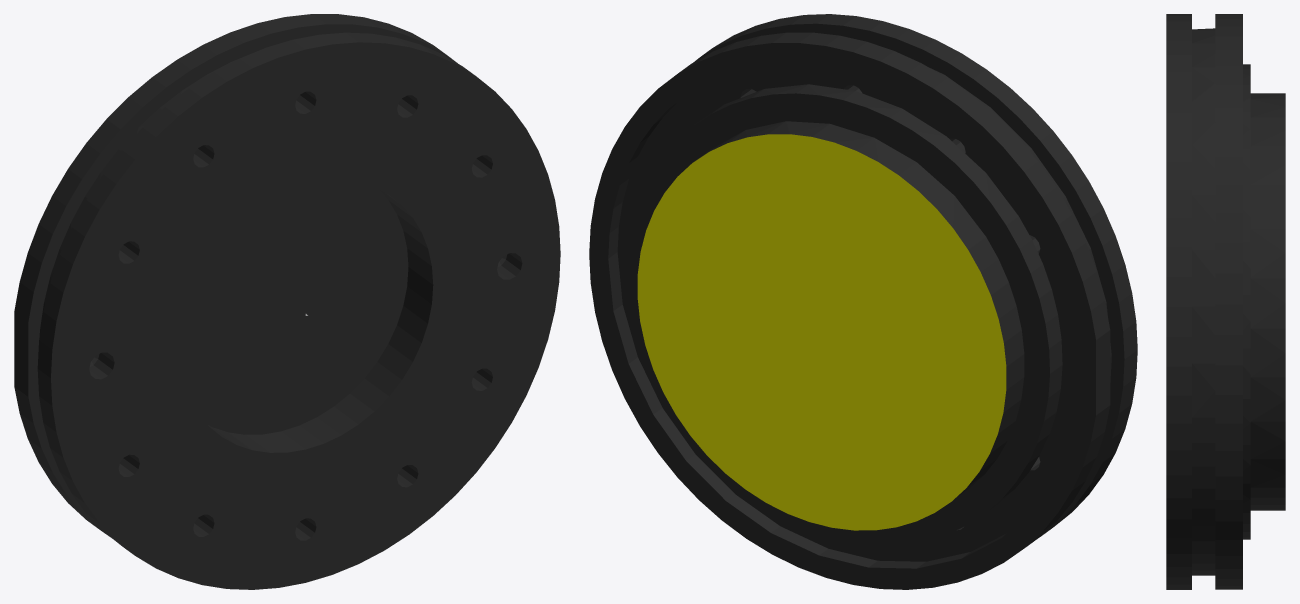
The picture shows the model from 3 angles, left to right: view 1: azimuth 30°, elevation 25°; view 2: azimuth 150°, elevation 25°; view 3: azimuth 270°, elevation 25°; orthographic projection. The views are drawn at different scales.
Parts seen in each view (by area): view 1: node; view 2: node; view 3: node.
Boxes of the visible parts, <box> form: node: <box>14,14,560,589</box>; node: <box>589,14,1137,589</box>; node: <box>1166,14,1285,589</box>.
Bounding box in the file's own units: 200 × 200 × 41.5.
